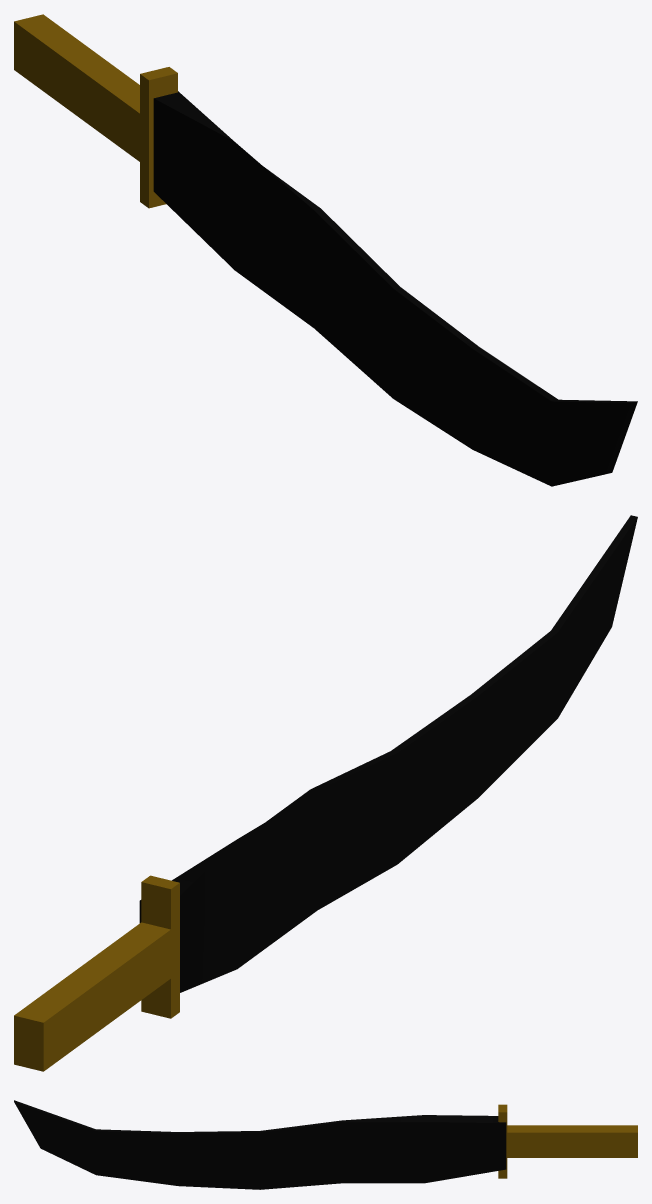
Rendered from _word.fbx.
3 renders of one model, top to bottom at view 1: azimuth 30°, elevation 25°; view 2: azimuth 150°, elevation 25°; view 3: azimuth 270°, elevation 25°, orthographic. The views are drawn at different scales.
Visible parts, largest first — view 1: pCube4; view 2: pCube4; view 3: pCube4.
Part boxes in pixels (box(x1,y1,x2,y2)): pCube4: box(14, 14, 637, 486); pCube4: box(14, 515, 637, 1071); pCube4: box(14, 1100, 637, 1189).
Size of the model in its own units: 0.2246 by 1.13 by 7.3.
